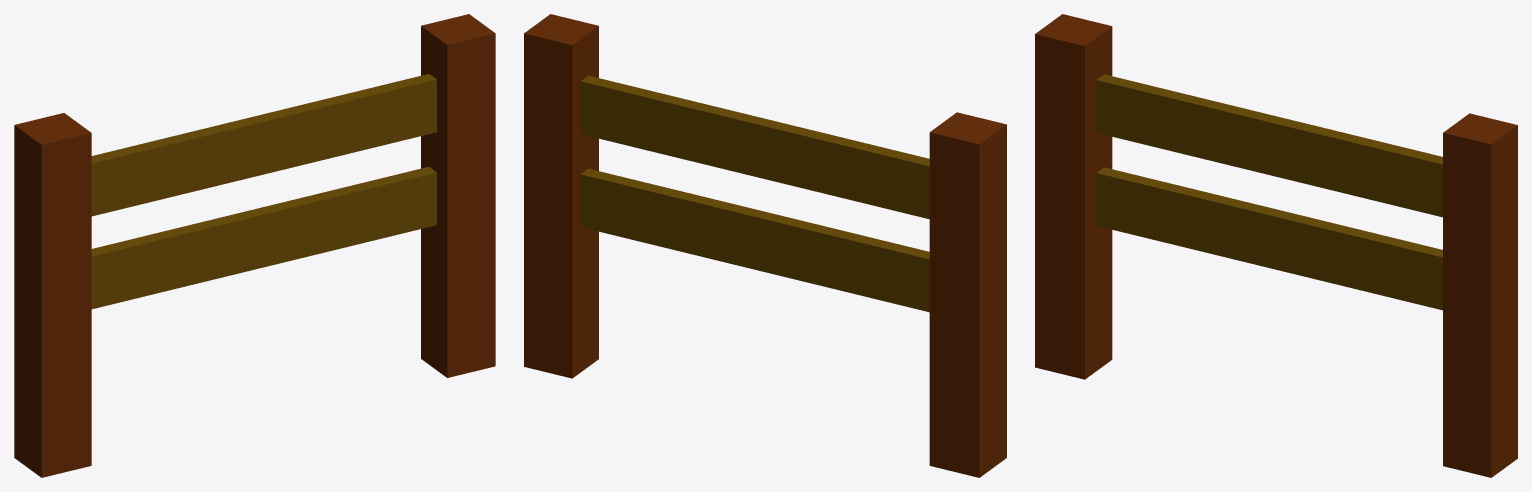
File: fence.fbx
The picture shows the model from 3 angles, left to right: view 1: azimuth 30°, elevation 25°; view 2: azimuth 150°, elevation 25°; view 3: azimuth 330°, elevation 25°; orthographic projection.
Visible parts, largest first — view 1: pCube2, pCube1, pasted__polySurface6, pasted__polySurface7; view 2: pCube2, pCube1, pasted__polySurface6, pasted__polySurface7; view 3: pCube1, pCube2, pasted__polySurface6, pasted__polySurface7.
Boxes of the visible parts, x1,y1,x2,y2 form: pCube2: (14, 113, 91, 477); pCube1: (421, 14, 495, 377); pasted__polySurface6: (91, 166, 436, 309); pasted__polySurface7: (91, 74, 436, 216); pCube2: (929, 112, 1006, 477); pCube1: (524, 14, 598, 378); pasted__polySurface6: (580, 168, 929, 312); pasted__polySurface7: (580, 75, 929, 219); pCube1: (1443, 113, 1517, 477); pCube2: (1035, 14, 1112, 379); pasted__polySurface6: (1096, 167, 1442, 310); pasted__polySurface7: (1096, 74, 1442, 217).
Size of the model in its own units: 15.3 by 10.7 by 1.6.
